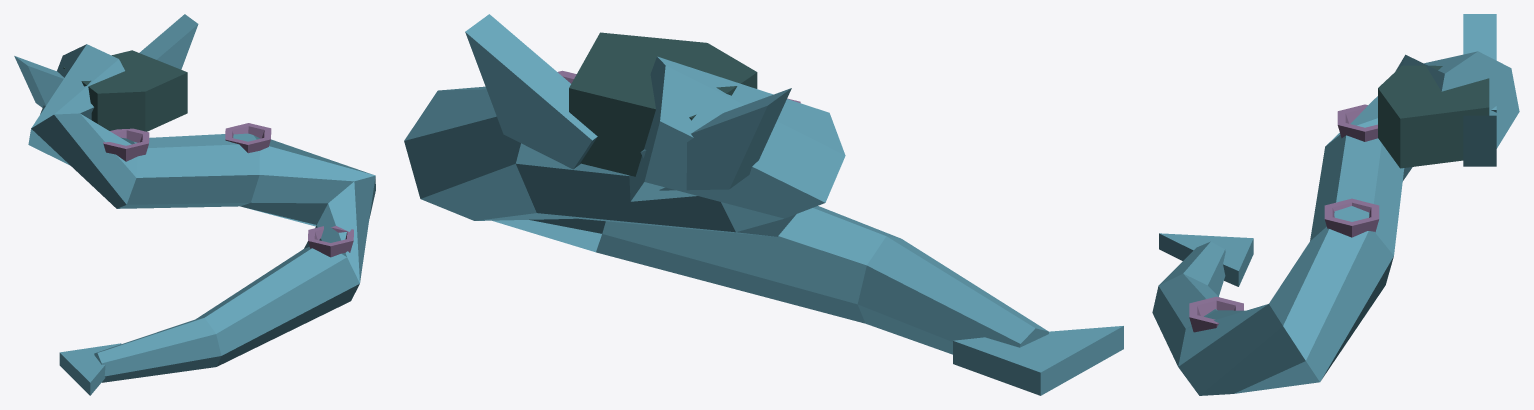
Rendered from storm.glb.
3 views of the same model, side by side, from view 1: azimuth 30°, elevation 25°; view 2: azimuth 150°, elevation 25°; view 3: azimuth 270°, elevation 25° (orthographic). The views are drawn at different scales.
Visible parts, largest first — view 1: body, head; view 2: body, head; view 3: body, head.
Boxes of the visible parts, x1=… form: body: x1=28, y1=44, x2=375, y2=395; head: x1=14, y1=14, x2=198, y2=131; body: x1=404, y1=56, x2=1123, y2=395; head: x1=465, y1=14, x2=791, y2=190; body: x1=1152, y1=51, x2=1519, y2=395; head: x1=1378, y1=14, x2=1496, y2=168.
Bounding box in the file's own units: 2.65 × 1.7 × 2.
